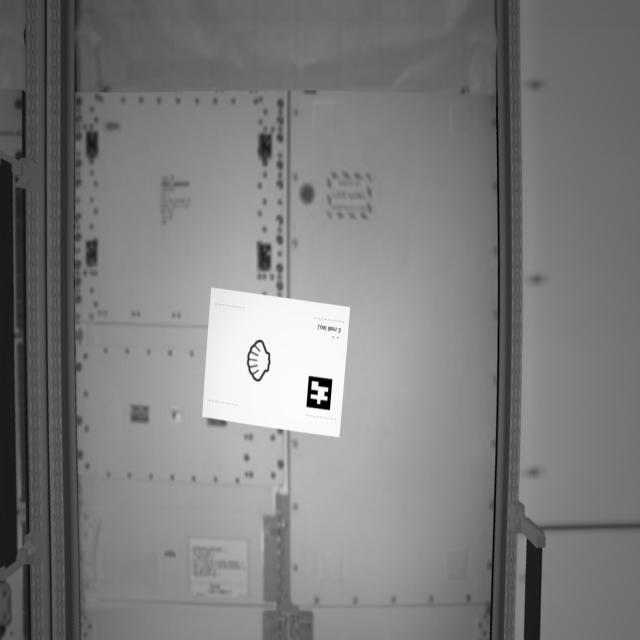shell: (242, 336, 279, 386)
